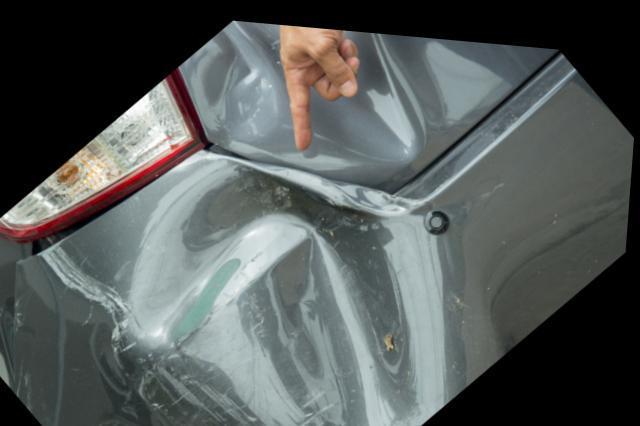dent: (126, 160, 464, 426), (312, 24, 416, 155), (199, 16, 280, 143)
dislocated part: (27, 135, 207, 266)
scratch: (111, 324, 282, 426)
